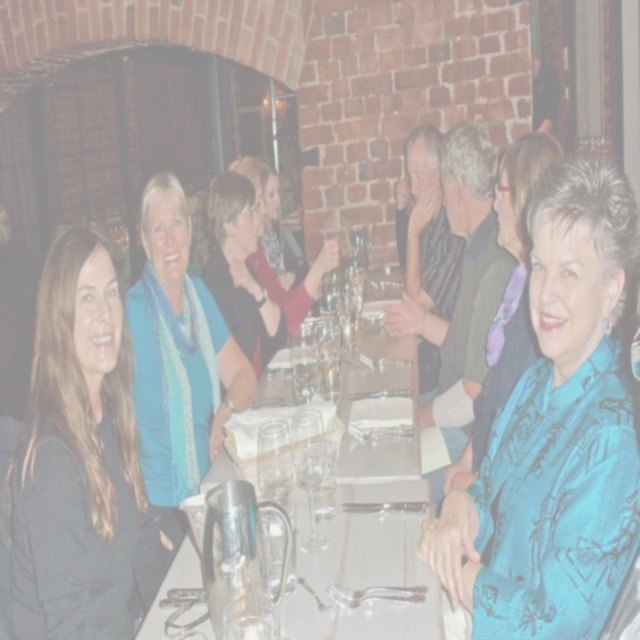pessoa: (413, 153, 640, 640), (0, 217, 172, 638), (380, 114, 517, 512), (120, 166, 260, 510), (440, 132, 568, 500), (226, 158, 340, 384), (394, 122, 468, 398), (198, 168, 288, 383), (228, 160, 328, 342), (530, 44, 562, 140), (0, 201, 13, 259)
